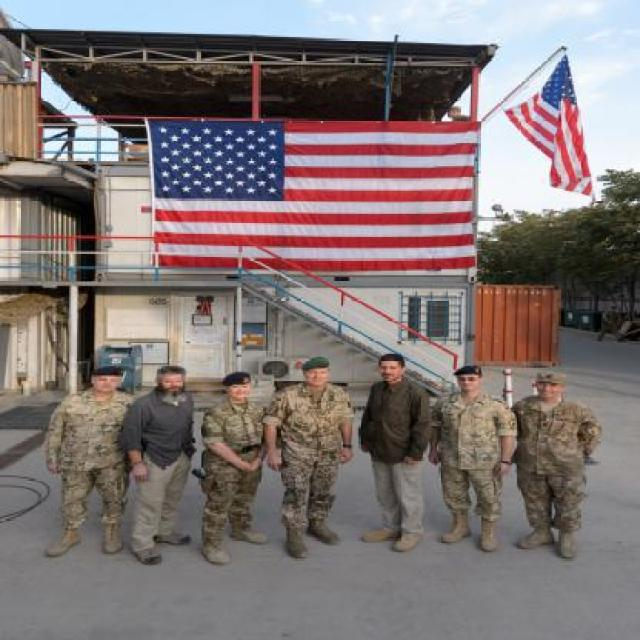Person: (263, 350, 360, 562), (41, 364, 134, 556), (355, 352, 442, 553), (425, 358, 513, 553), (110, 359, 195, 556), (523, 374, 606, 568), (194, 375, 269, 560)
